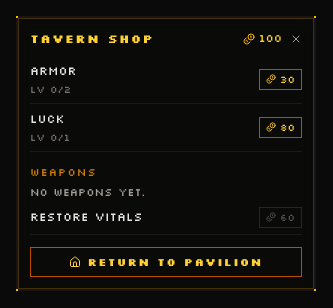
ShopPanel › charges the next rung after a purchase
Click the button "30": (280, 79) [259, 68, 302, 90]
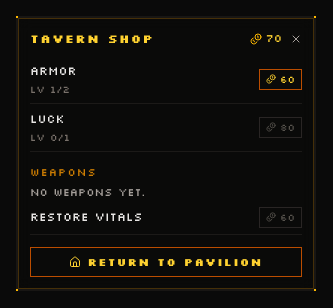
Now the button "60" in the row of "Armor" is shown, box [259, 68, 302, 90]
